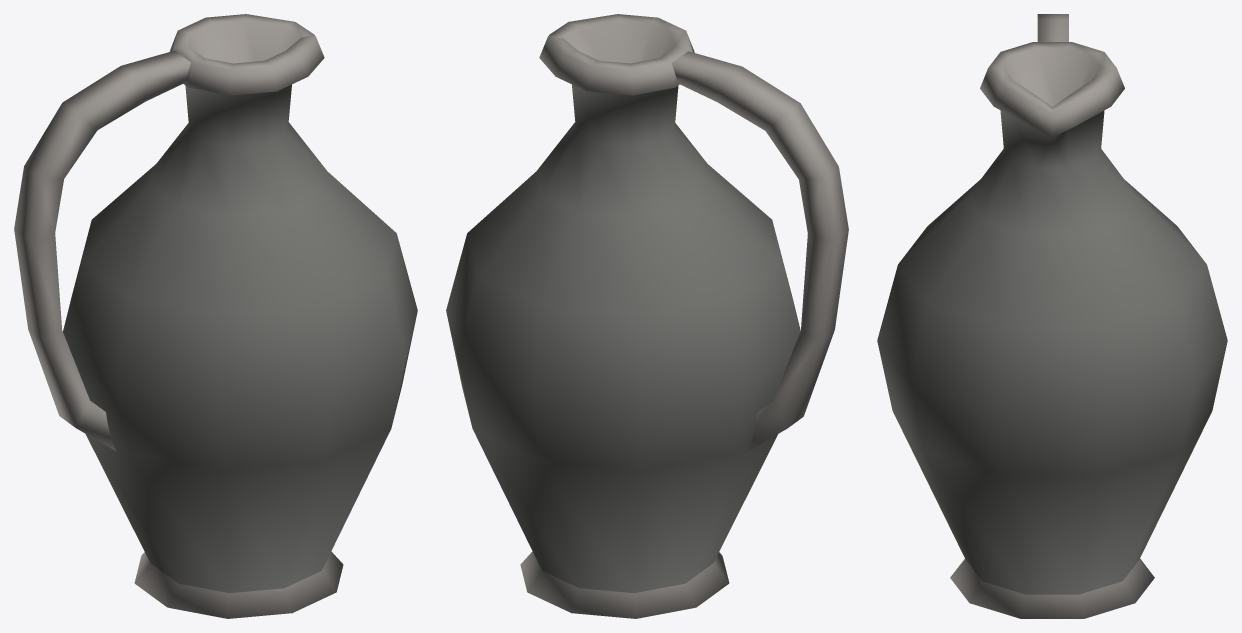
File: rpgpp_ag_jug_03b.fbx
3 views of the same model, side by side, from view 1: azimuth 30°, elevation 25°; view 2: azimuth 150°, elevation 25°; view 3: azimuth 270°, elevation 25° (orthographic). The views are drawn at different scales.
Visible parts, largest first — view 1: rpgpp_ag_jug_03b; view 2: rpgpp_ag_jug_03b; view 3: rpgpp_ag_jug_03b.
Part boxes in pixels (x1,y1,x2,y2): rpgpp_ag_jug_03b: (14, 14, 417, 618); rpgpp_ag_jug_03b: (446, 14, 848, 618); rpgpp_ag_jug_03b: (877, 14, 1227, 618).
Size of the model in its own units: 0.3014 by 0.4176 by 0.2602.
